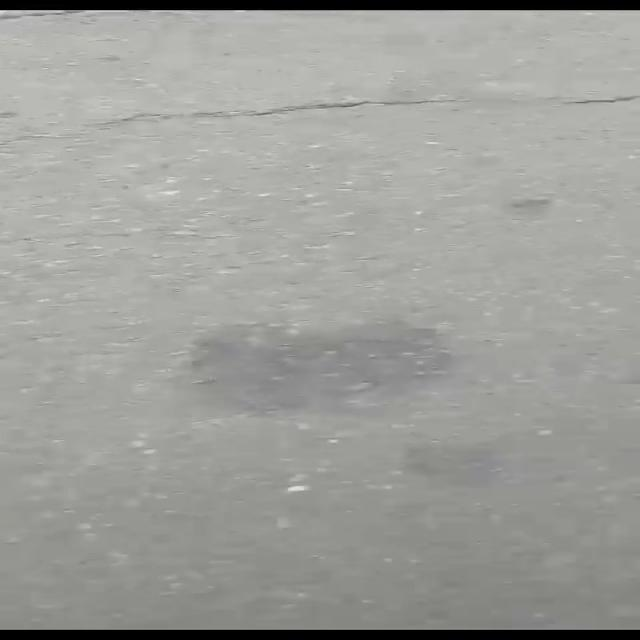Melintang: (0, 82, 637, 160)
